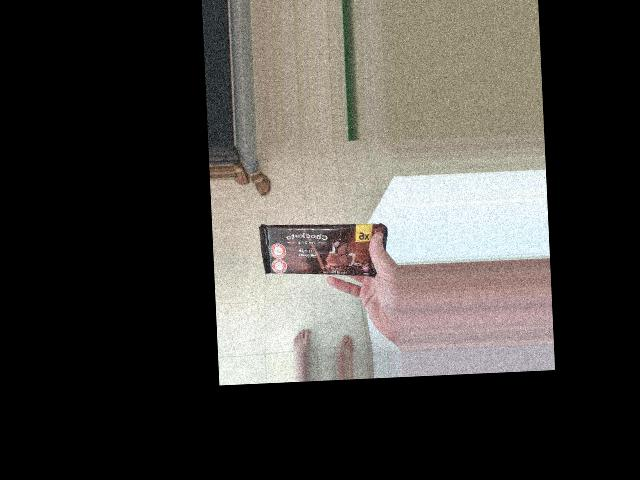chocolate: (259, 212, 392, 292)
